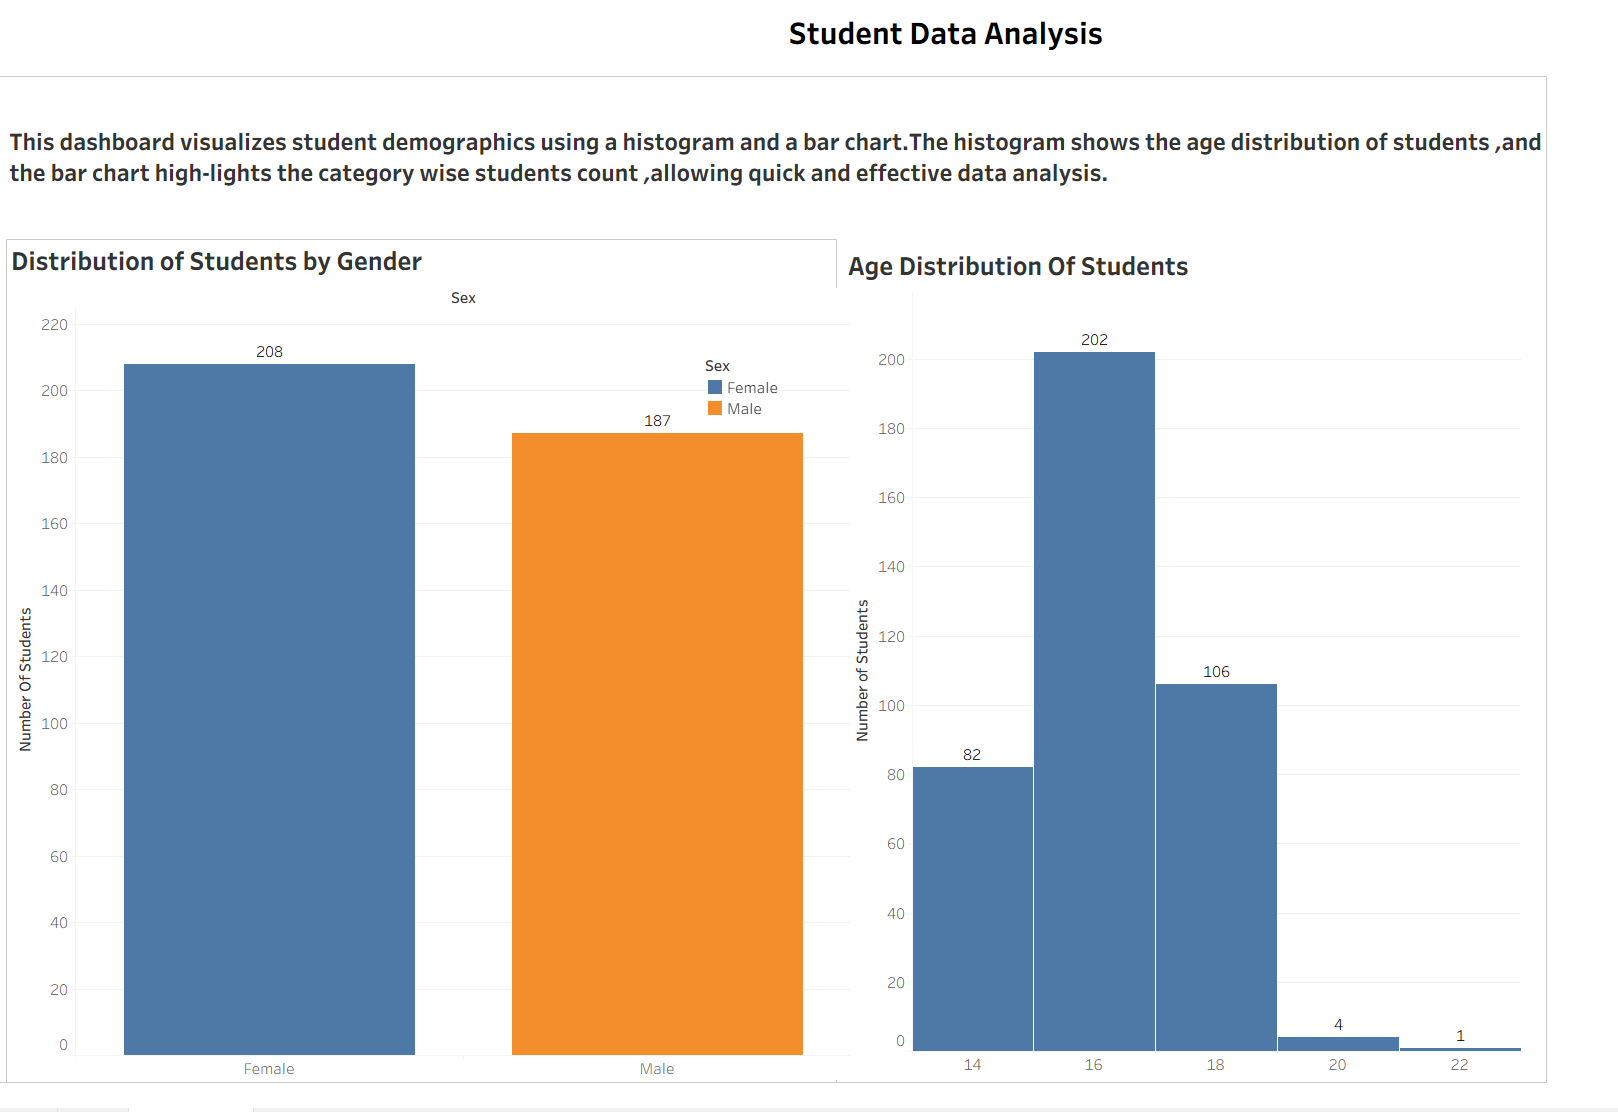

What the dashboard file says about the page in this screenshot:
{"tool":"tableau","page":{"name":"Dashboard 1","canvas":[1000,1000],"units":"permille","ordinal":0},"visuals":[{"type":"text","box":[7.2,13,985.5,53.2]},{"type":"text","box":[10.5,71.7,801.4,146.6]},{"type":"worksheet","title":"Sheet 1","mark":"Automatic","rows":["student_data.csv_E1EBB68F17F9481CA03A2EBBB6C4A31B"],"cols":["sex"],"box":[10.9,219.3,439.4,755.7]},{"type":"worksheet","title":"Sheet 2","mark":"Bar","rows":["student_data.csv_E1EBB68F17F9481CA03A2EBBB6C4A31B"],"cols":["Age (bin) 3"],"box":[444.6,220.4,356.8,754.6]},{"type":"legend","title":"Sheet 1","param":"[federated.0p40kn10ii901e16c4h2s1jj8ruq].[none:sex:nk]","box":[374.3,323.6,82,69.5]}]}

Visuals, with their boxes on the dashboard's canvas, which has no fixed pixel size, in thousandths of its width and height (x1, y1, x2, y2). These are canvas units, not pixel positions in the 1618x1112 screenshot, which may show the page scaled, cropped or inside an application window:
text: BBox(7, 13, 993, 66)
text: BBox(10, 72, 812, 218)
"Sheet 1" worksheet: BBox(11, 219, 450, 975)
"Sheet 2" worksheet (Bar marks): BBox(445, 220, 801, 975)
"Sheet 1" legend: BBox(374, 324, 456, 393)
